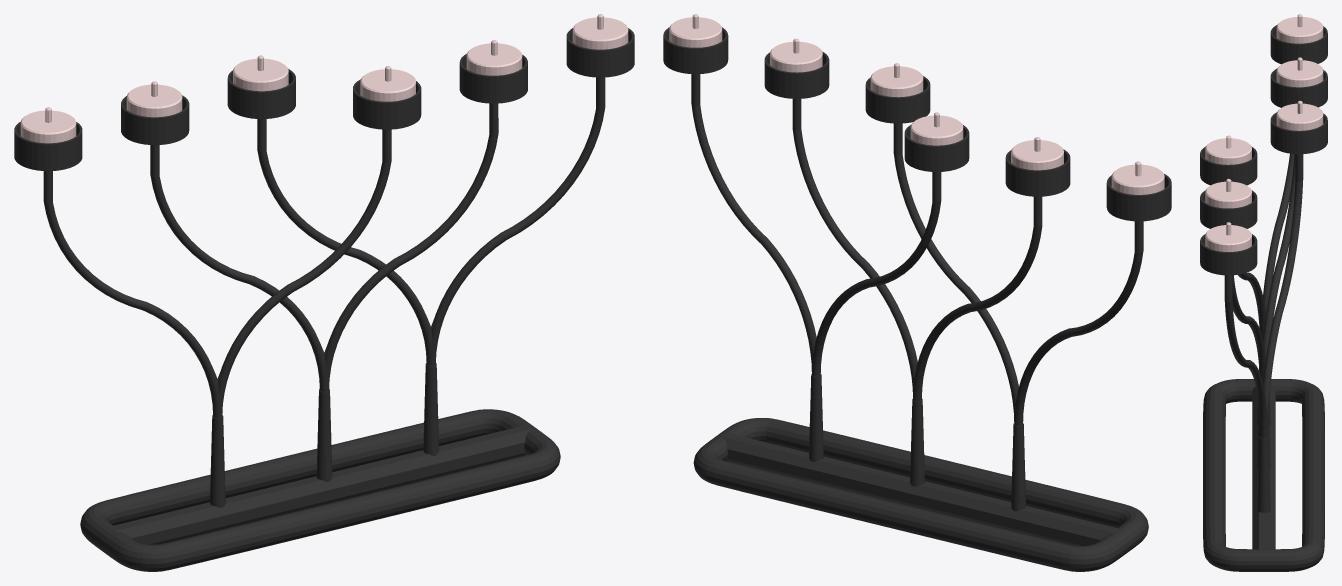
Rendered from mv_Chandelier.fbx.
3 views of the same model, side by side, from view 1: azimuth 30°, elevation 25°; view 2: azimuth 150°, elevation 25°; view 3: azimuth 270°, elevation 25° (orthographic). The views are drawn at different scales.
Parts seen in each view (by area): view 1: Chandelier_LOD0; view 2: Chandelier_LOD0; view 3: Chandelier_LOD0.
Part boxes in pixels (x1,y1,x2,y2): Chandelier_LOD0: (14, 14, 634, 571); Chandelier_LOD0: (663, 14, 1171, 571); Chandelier_LOD0: (1200, 14, 1327, 571).
Size of what is drawn, in the model's own units: 43.46 by 32.15 by 10.09.
